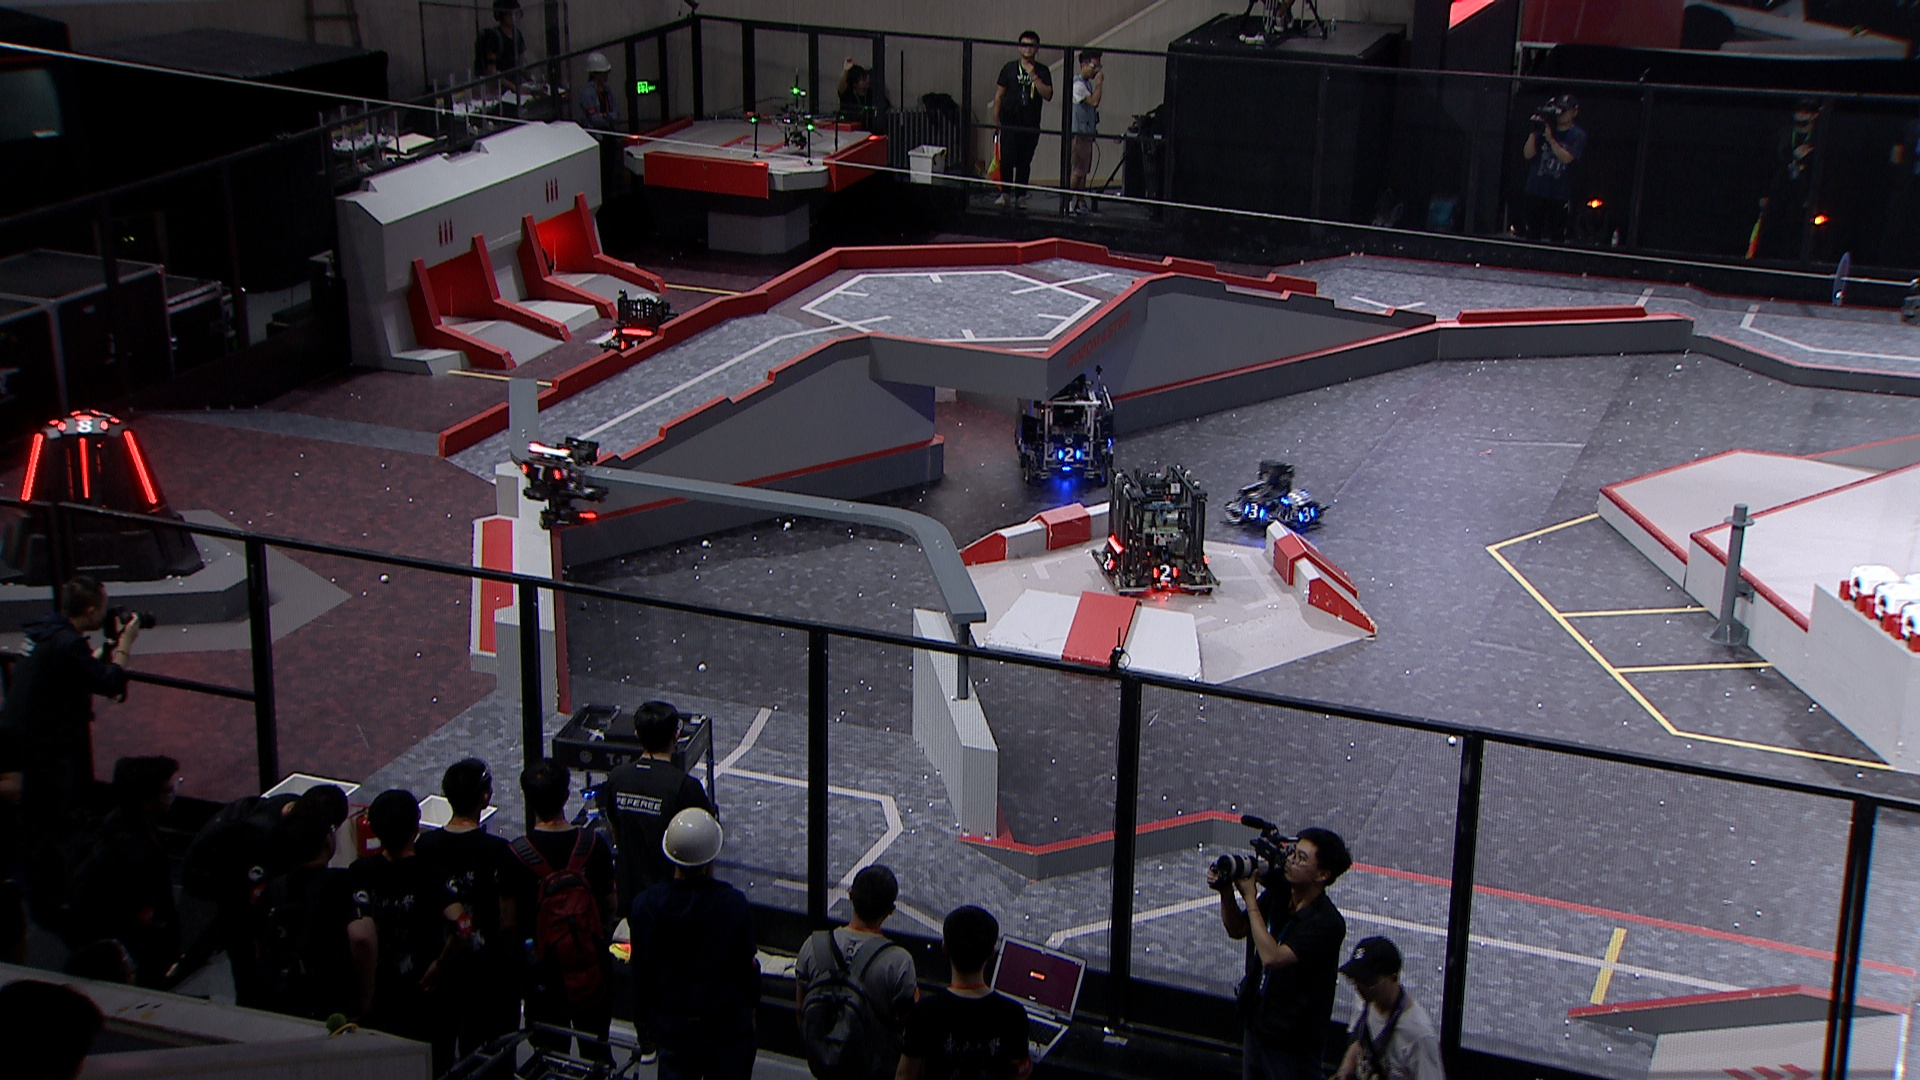armor: (121, 429, 160, 508), (20, 429, 44, 501), (78, 434, 95, 504), (520, 462, 556, 484), (57, 419, 109, 434), (1055, 446, 1083, 465), (1149, 564, 1178, 582), (1240, 500, 1265, 518), (1282, 488, 1307, 502), (1101, 549, 1117, 570), (621, 338, 642, 352), (1299, 506, 1313, 522)
car: (543, 702, 723, 882), (1088, 462, 1224, 603), (1007, 371, 1120, 495), (1225, 458, 1328, 533), (603, 290, 688, 367)
watcher: (514, 433, 609, 531)
